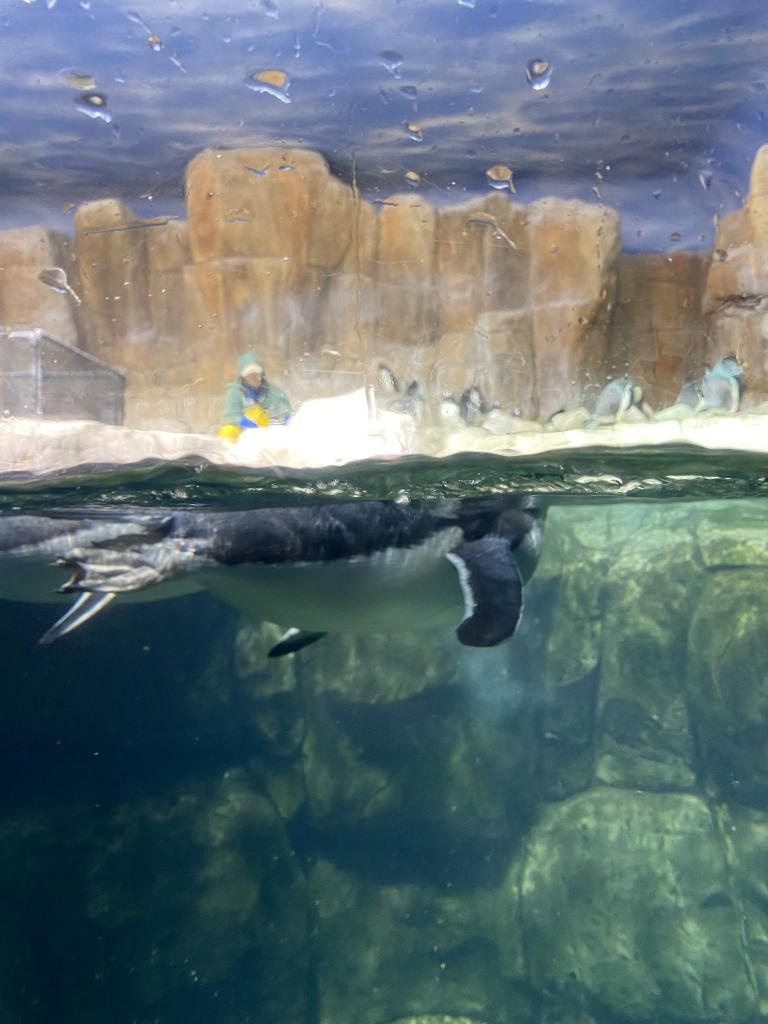penguin: (52, 460, 550, 658), (1, 506, 266, 606), (588, 369, 662, 431), (695, 348, 751, 422), (387, 380, 431, 436), (458, 380, 503, 432), (371, 357, 404, 399)
